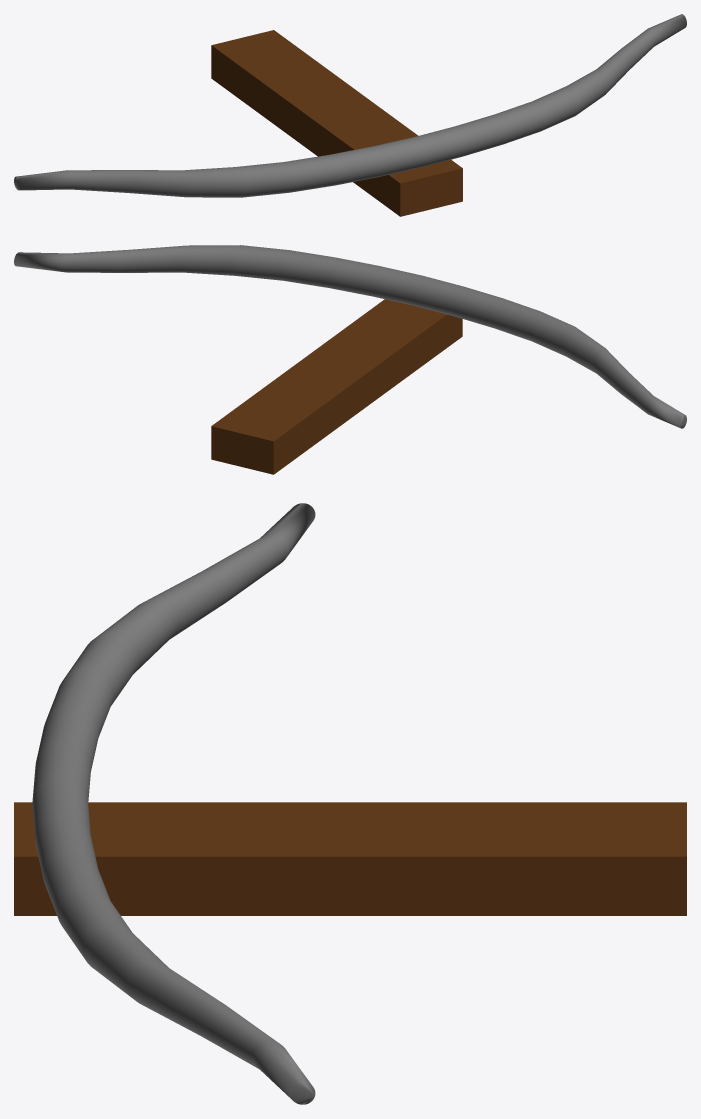
Rendered from CrossBow.fbx.
3 views of the same model, one above another, from view 1: azimuth 30°, elevation 25°; view 2: azimuth 150°, elevation 25°; view 3: azimuth 270°, elevation 25° (orthographic). The views are drawn at different scales.
Visible parts, largest first — view 1: CrossBow; view 2: CrossBow; view 3: CrossBow.
Part boxes in pixels (<box>): CrossBow: <box>14,14,686,216</box>; CrossBow: <box>14,245,686,474</box>; CrossBow: <box>14,503,686,1104</box>.
Size of the model in its own units: 299 by 26.52 by 147.
